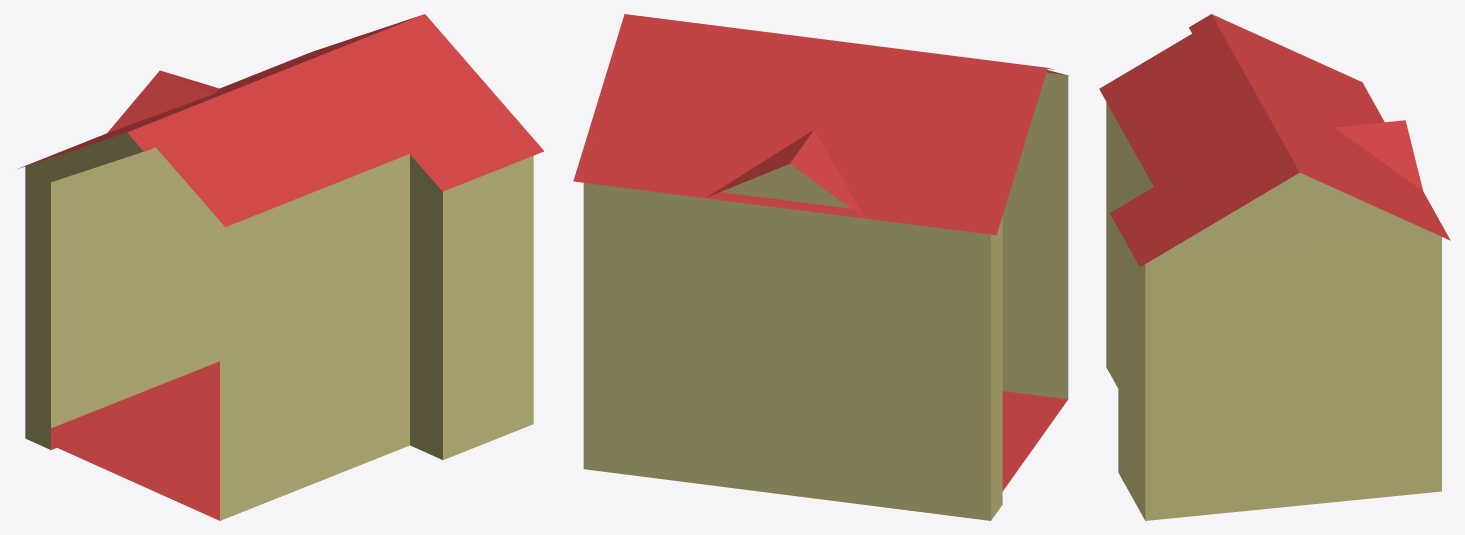
3 views of the same model, side by side, from view 1: azimuth 30°, elevation 25°; view 2: azimuth 150°, elevation 25°; view 3: azimuth 270°, elevation 25° (orthographic). The views are drawn at different scales.
Bounding box in the file's own units: 15.39 × 12.07 × 12.73.
